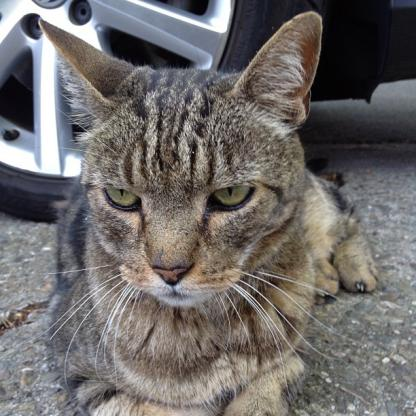Target: (30, 18, 382, 416)
